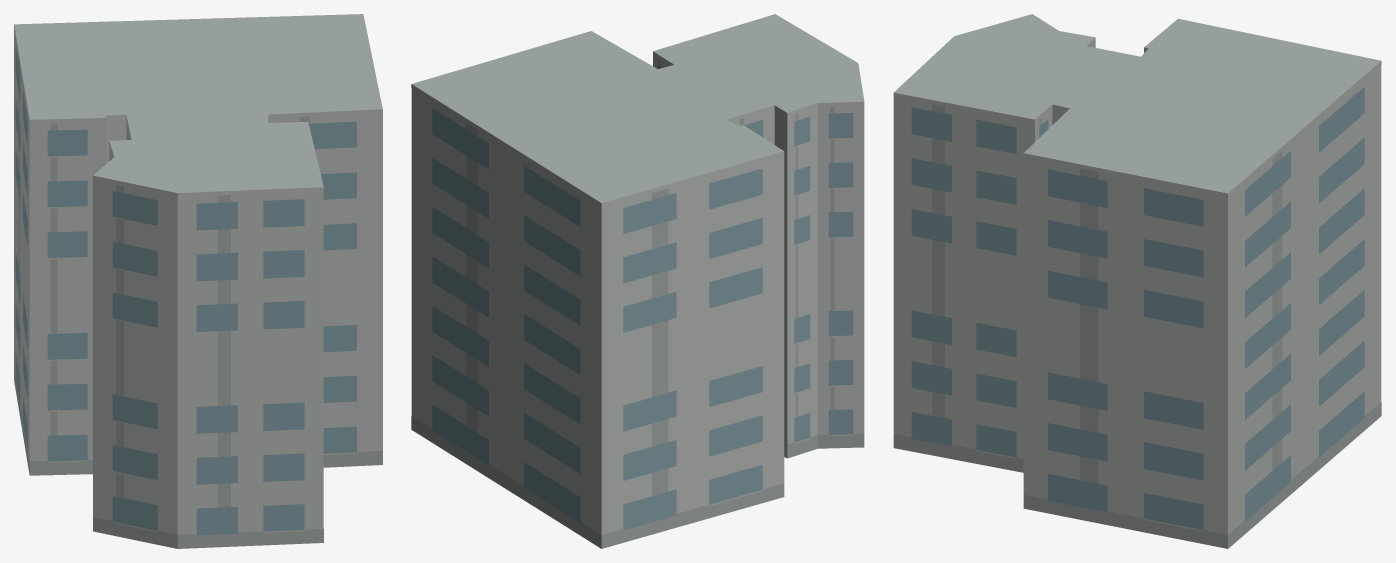
Rendered from survey-upis-32508172.glb.
The picture shows the model from 3 angles, left to right: view 1: azimuth 30°, elevation 25°; view 2: azimuth 150°, elevation 25°; view 3: azimuth 270°, elevation 25°; orthographic projection. The views are drawn at different scales.
Parts seen in each view (by area): view 1: survey-upis-32508172.tmp; view 2: survey-upis-32508172.tmp; view 3: survey-upis-32508172.tmp.
Boxes of the visible parts, x1=… form: survey-upis-32508172.tmp: x1=14, y1=14, x2=382, y2=548; survey-upis-32508172.tmp: x1=411, y1=14, x2=864, y2=548; survey-upis-32508172.tmp: x1=893, y1=14, x2=1381, y2=548.
Bounding box in the file's own units: 22.49 × 20.75 × 25.83.
